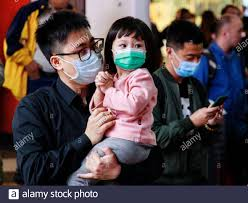no-mask: (213, 14, 248, 49)
with-mask: (34, 10, 103, 85), (107, 14, 152, 75), (161, 20, 203, 83)
